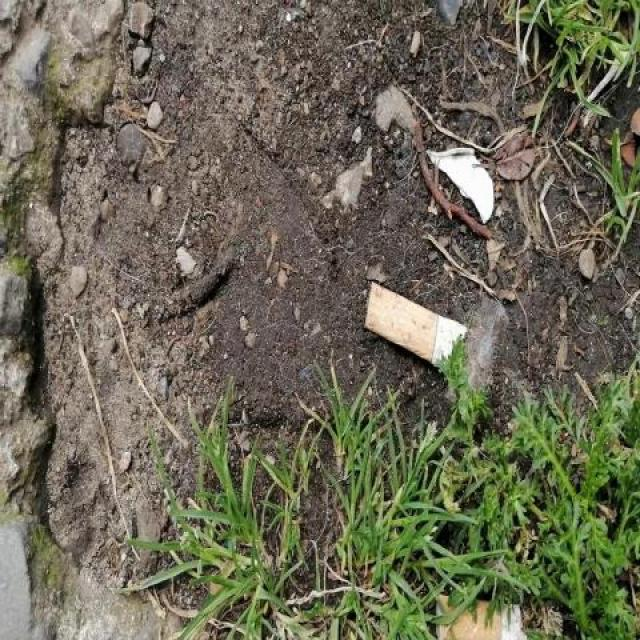non-organic waste: (360, 277, 472, 383), (435, 588, 529, 640)
